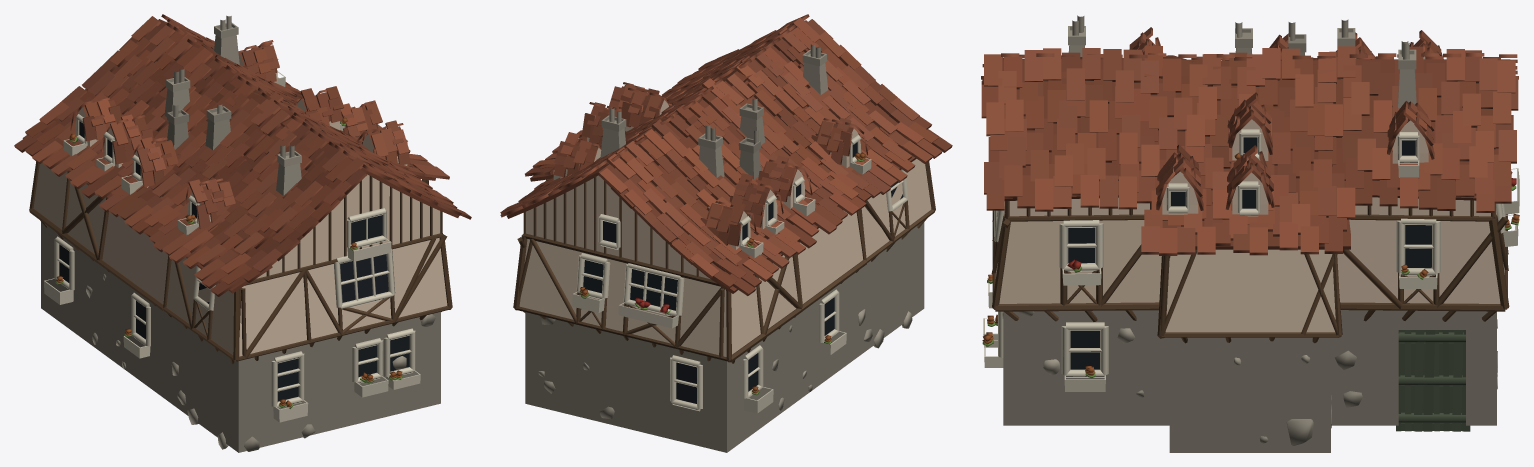
Rendered from house_25.glb.
The picture shows the model from 3 angles, left to right: view 1: azimuth 30°, elevation 25°; view 2: azimuth 150°, elevation 25°; view 3: azimuth 270°, elevation 25°; orthographic projection. The views are drawn at different scales.
Parts seen in each view (by area): view 1: house_25; view 2: house_25; view 3: house_25.
Part boxes in pixels (box(x1,y1,x2,y2)): house_25: box(14, 14, 471, 452); house_25: box(500, 14, 952, 452); house_25: box(981, 15, 1519, 452).
Size of the model in its own units: 7.48 by 7.11 by 9.56.
